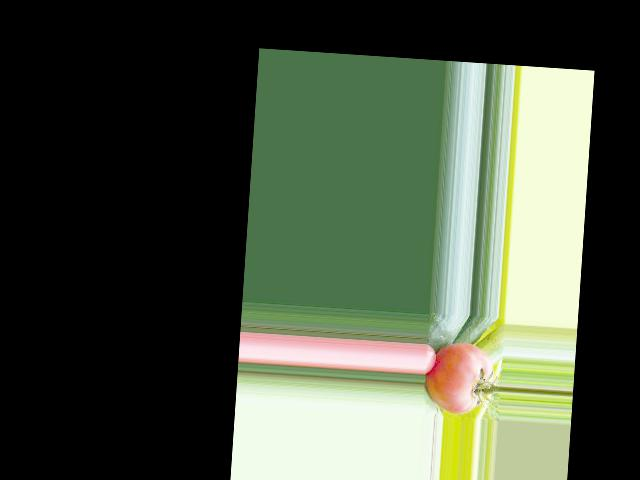tomato: (423, 340, 494, 416)
